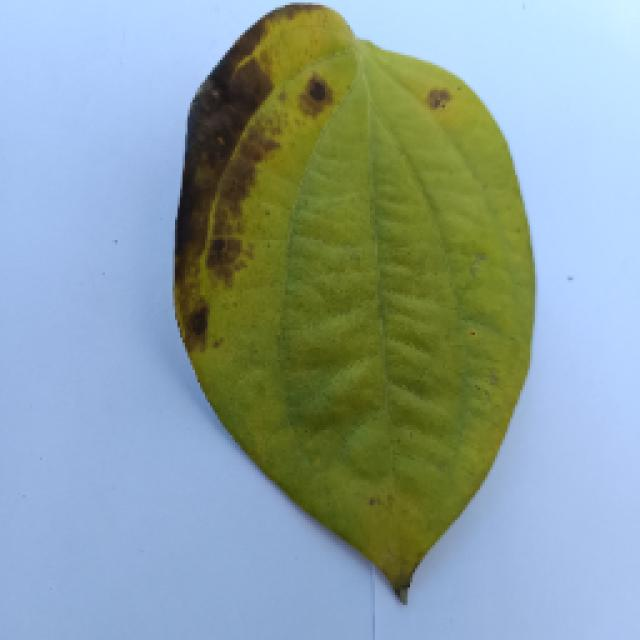slow-decline: (135, 15, 567, 617)
